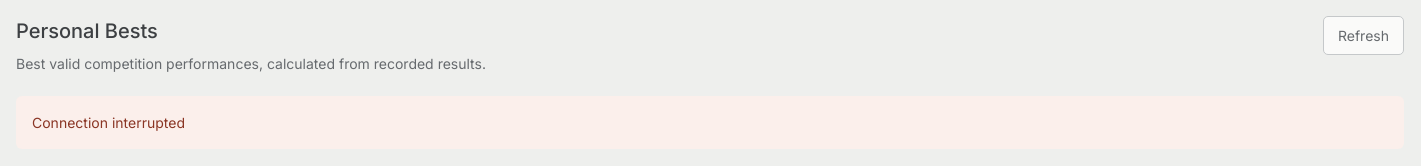
Test: personal bests › handles empty history and retries a failed request
This screenshot has width=1421, height=166.
Expected: the message reads "Connection interrupted", [32,114,185,131]
Click the button "Refresh" at [1364, 36], box [1323,16,1404,55]
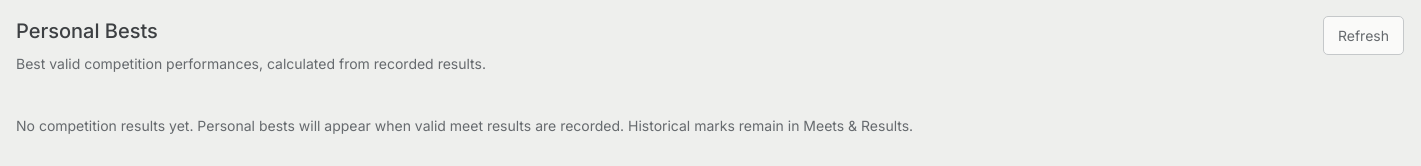
Expected: the text "No competition results yet" is shown, [16,117,913,134]
